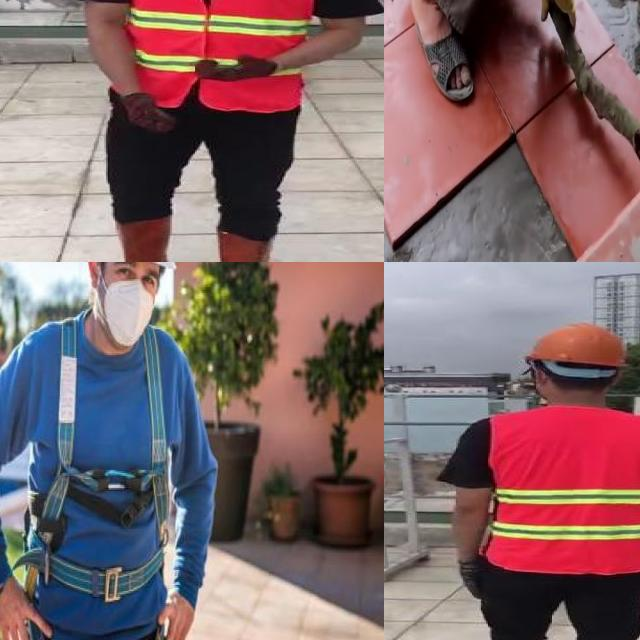Harness: (15, 319, 170, 604)
Sandals: (408, 0, 474, 110)
boots: (94, 214, 172, 262), (211, 232, 285, 262)
hand_glove: (193, 53, 275, 81), (120, 95, 176, 131), (458, 557, 490, 598), (539, 0, 579, 26)
head_helmet: (525, 318, 632, 372)
person: (69, 0, 375, 262), (440, 322, 640, 640)
vest: (482, 407, 640, 573), (120, 0, 315, 116)
